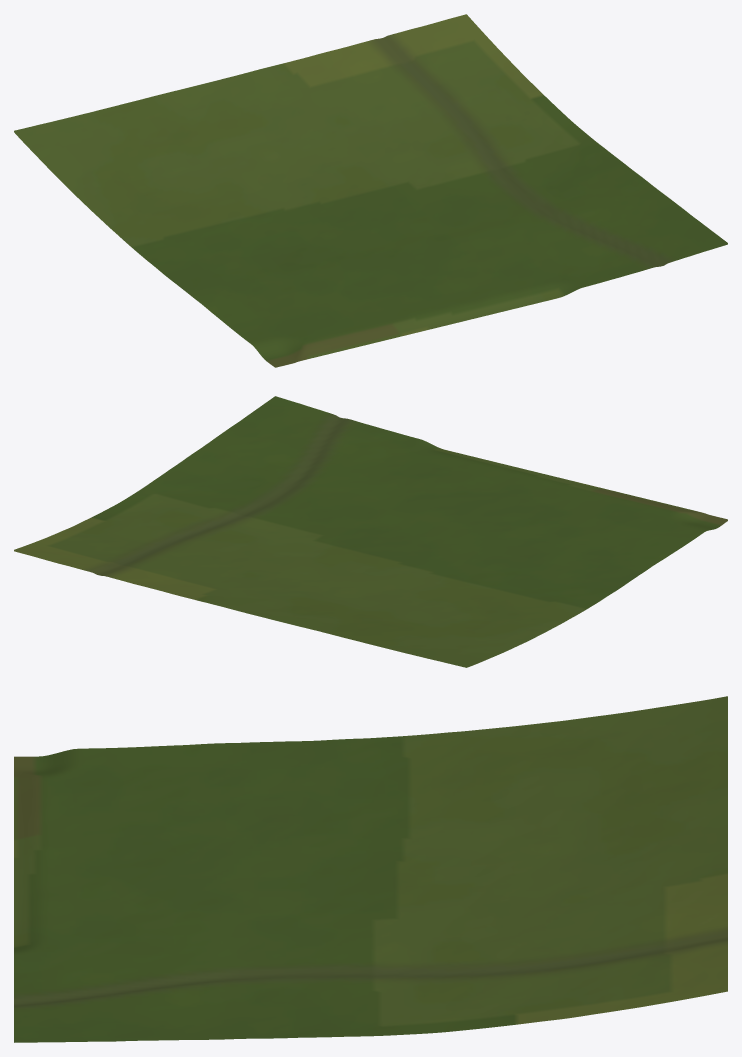
Rendered from land_n_02_01.glb.
The picture shows the model from 3 angles, top to bottom: view 1: azimuth 30°, elevation 25°; view 2: azimuth 150°, elevation 25°; view 3: azimuth 270°, elevation 25°; orthographic projection. The views are drawn at different scales.
Parts seen in each view (by area): view 1: land_n_02_01; view 2: land_n_02_01; view 3: land_n_02_01.
Part boxes in pixels (x1,y1,x2,y2): land_n_02_01: [14, 14, 727, 367]; land_n_02_01: [14, 396, 727, 667]; land_n_02_01: [14, 696, 727, 1042].
Size of the model in its own units: 480 by 52.61 by 480.
